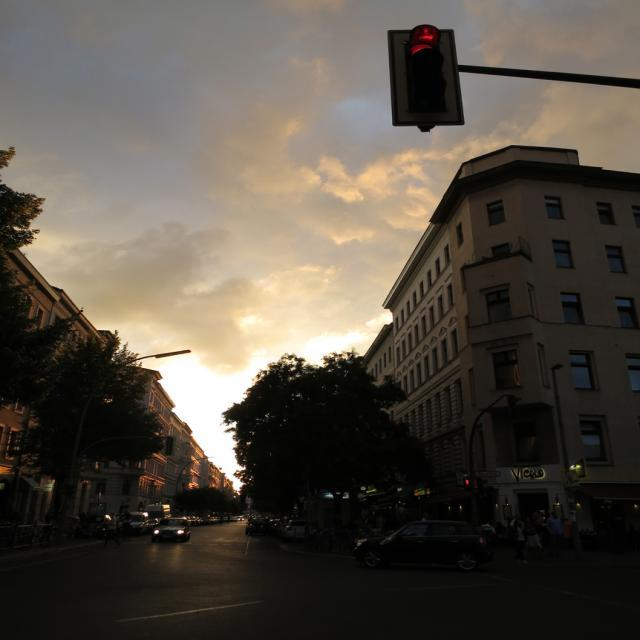traffic light: (403, 25, 447, 116)
